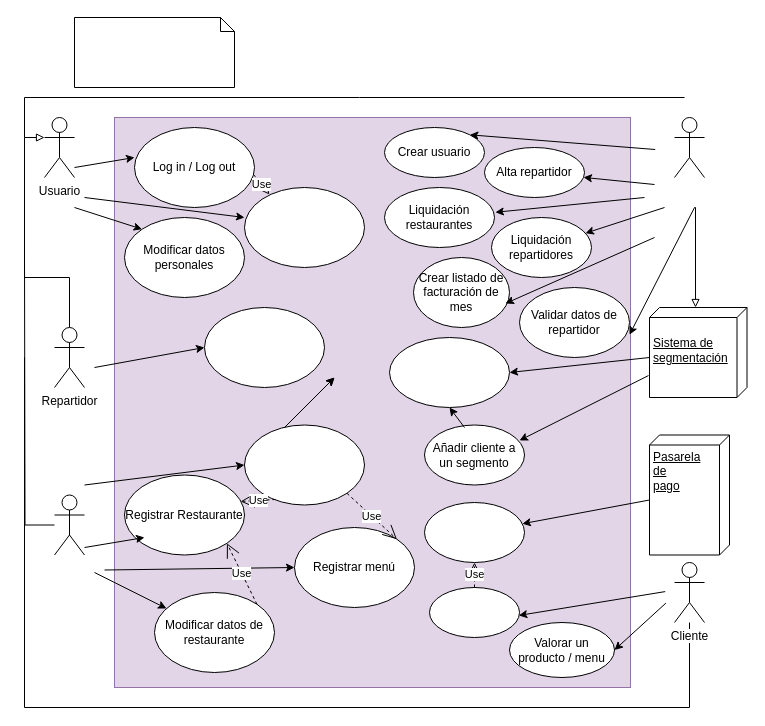
The diagram is 765 pixels wide and 726 high, and some of its shapes have lost their labels. Each missing label, with the centre of its shape:
Aceptar pedido: point (264, 347)
Administrador: point (689, 147)
Cobrar pedidos: point (474, 532)
Crear segmentos a partir de los datos actuales: point (449, 372)
Nota: Todos los casos de uso requerirán del Log-In: point (154, 52)
Propietario: point (69, 524)
Realizar pedido: point (474, 612)
Registrar Plato: point (304, 464)
Registrarse en el sistema: point (304, 227)
